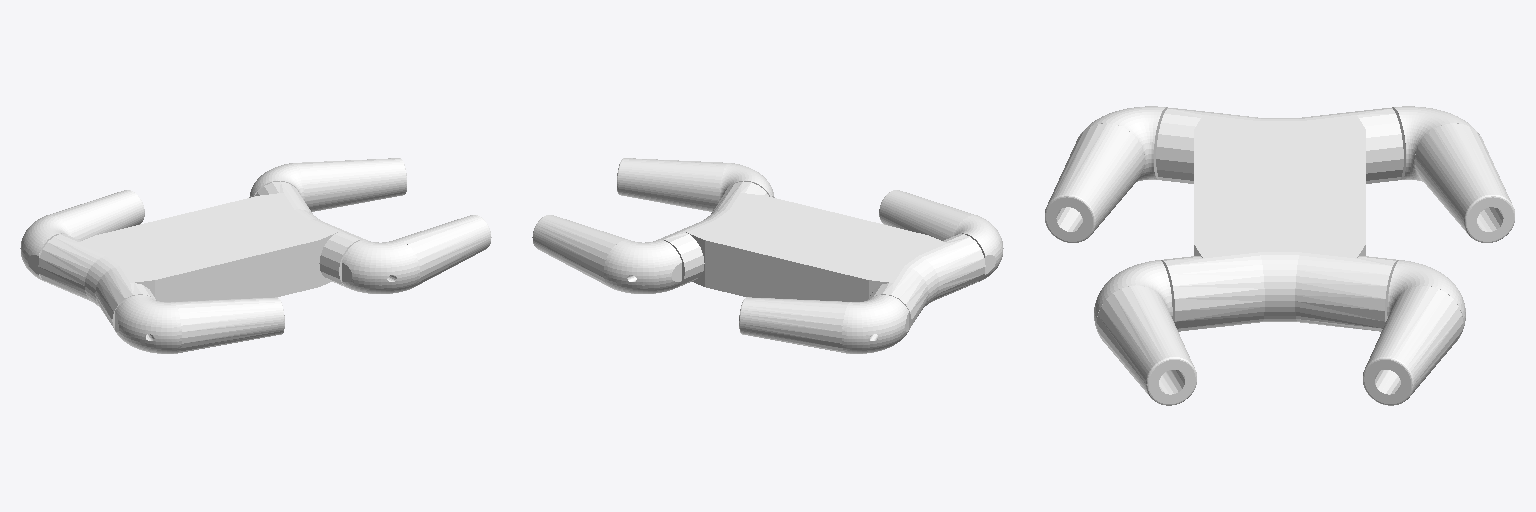
The robot description file, URDF, robot "15_degree":
<?xml version="1.0" encoding="utf-8"?>
<!-- This URDF was automatically created by SolidWorks to URDF Exporter! Originally created by [author] ([email redacted]) 
     Commit Version: 1.5.1-0-g916b5db  Build Version: 1.5.7152.31018
     For more information, please see http://wiki.ros.org/sw_urdf_exporter -->
<robot
  name="15_degree">
  <link
    name="base_link">
    <inertial>
      <origin
        xyz="-2.7756E-17 5.2408E-08 -6.9389E-18"
        rpy="0 0 0" />
      <mass
        value="2.803" />
      <inertia
        ixx="0.009986176"
        ixy="-6.4851E-19"
        ixz="-8.4546E-11"
        iyy="0.040777.456"
        iyz="2.6238E-20"
        izz="0.048397454" />
    </inertial>
    <visual>
      <origin
        xyz="0 0 0"
        rpy="0 0 0" />
      <geometry>
        <mesh
          filename="package://15_degree/meshes/base_link.STL" />
      </geometry>
      <material
        name="">
        <color
          rgba="1 1 1 1" />
      </material>
    </visual>
    <collision>
      <origin
        xyz="0 0 0"
        rpy="0 0 0" />
      <geometry>
        <mesh
          filename="package://15_degree/meshes/base_link.STL" />
      </geometry>
    </collision>
  </link>
  <link
    name="left_fromt_link">
    <inertial>
      <origin
        xyz="-1.0413E-07 0.068609 -0.019067"
        rpy="0 0 0" />
      <mass
        value="0.0887" />
      <inertia
        ixx="0.000284019"
        ixy="4.7791E-10"
        ixz="7.4355E-10"
        iyy="0.000054239"
        iyz="-0.000038266"
        izz="0.000277107" />
    </inertial>
    <visual>
      <origin
        xyz="0 0 0"
        rpy="0 0 0" />
      <geometry>
        <mesh
          filename="package://15_degree/meshes/left_fromt_link.STL" />
      </geometry>
      <material
        name="">
        <color
          rgba="1 1 1 1" />
      </material>
    </visual>
    <collision>
      <origin
        xyz="0 0 0"
        rpy="0 0 0" />
      <geometry>
        <mesh
          filename="package://15_degree/meshes/left_fromt_link.STL" />
      </geometry>
    </collision>
  </link>
  <joint
    name="left_front_leg"
    type="continuous">
    <origin
      xyz="0.15666 0.09949 0"
      rpy="1.5708 1.5708 0" />
    <parent
      link="base_link" />
    <child
      link="left_fromt_link" />
    <axis
      xyz="0 0.25882 -0.96593" />
    <limit
      effort="5"
      velocity="487" />
  </joint>
  <link
    name="right_front_link">
    <inertial>
      <origin
        xyz="1.0413E-07 0.068609 0.019067"
        rpy="0 0 0" />
      <mass
        value="0.0877" />
      <inertia
        ixx="0.000284019"
        ixy="-4.7791E-10"
        ixz="7.4355E-10"
        iyy="0.000054239"
        iyz="0.000038266"
        izz="0.000277107" />
    </inertial>
    <visual>
      <origin
        xyz="0 0 0"
        rpy="0 0 0" />
      <geometry>
        <mesh
          filename="package://15_degree/meshes/right_front_link.STL" />
      </geometry>
      <material
        name="">
        <color
          rgba="1 1 1 1" />
      </material>
    </visual>
    <collision>
      <origin
        xyz="0 0 0"
        rpy="0 0 0" />
      <geometry>
        <mesh
          filename="package://15_degree/meshes/right_front_link.STL" />
      </geometry>
    </collision>
  </link>
  <joint
    name="right_front_leg"
    type="continuous">
    <origin
      xyz="0.15666 -0.09949 0"
      rpy="1.5708 1.5708 0" />
    <parent
      link="base_link" />
    <child
      link="right_front_link" />
    <axis
      xyz="0 0.25882 0.96593" />
    <limit
      effort="5"
      velocity="487" />
  </joint>
  <link
    name="right_back_link">
    <inertial>
      <origin
        xyz="8.4201E-08 0.061337 0.036175"
        rpy="0 0 0" />
      <mass
        value="0.0877" />
      <inertia
        ixx="0.000284019"
        ixy="-5.3404E-10"
        ixz="6.2732E-10"
        iyy="0.000050035"
        iyz="-0.000022577"
        izz="0.000281311" />
    </inertial>
    <visual>
      <origin
        xyz="0 0 0"
        rpy="0 0 0" />
      <geometry>
        <mesh
          filename="package://15_degree/meshes/right_back_link.STL" />
      </geometry>
      <material
        name="">
        <color
          rgba="1 1 1 1" />
      </material>
    </visual>
    <collision>
      <origin
        xyz="0 0 0"
        rpy="0 0 0" />
      <geometry>
        <mesh
          filename="package://15_degree/meshes/right_back_link.STL" />
      </geometry>
    </collision>
  </link>
  <joint
    name="right_back_leg"
    type="continuous">
    <origin
      xyz="-0.15666 -0.09949 0"
      rpy="1.8326 1.5708 0" />
    <parent
      link="base_link" />
    <child
      link="right_back_link" />
    <axis
      xyz="0 0 1" />
    <limit
      effort="5"
      velocity="487" />
  </joint>
  <link
    name="left_back_link">
    <inertial>
      <origin
        xyz="-8.4201E-08 0.049884 -0.050818"
        rpy="0 0 0" />
      <mass
        value="0.0877" />
      <inertia
        ixx="0.000284019"
        ixy="6.782E-10"
        ixz="4.6772E-10"
        iyy="0.000076816"
        iyz="0.000077371"
        izz="0.000254529" />
    </inertial>
    <visual>
      <origin
        xyz="0 0 0"
        rpy="0 0 0" />
      <geometry>
        <mesh
          filename="package://15_degree/meshes/left_back_link.STL" />
      </geometry>
      <material
        name="">
        <color
          rgba="1 1 1 1" />
      </material>
    </visual>
    <collision>
      <origin
        xyz="0 0 0"
        rpy="0 0 0" />
      <geometry>
        <mesh
          filename="package://15_degree/meshes/left_back_link.STL" />
      </geometry>
    </collision>
  </link>
  <joint
    name="left_back_leg"
    type="continuous">
    <origin
      xyz="-0.15666 0.09949 0"
      rpy="1.5708 1.5708 0" />
    <parent
      link="base_link" />
    <child
      link="left_back_link" />
    <axis
      xyz="0 -0.25882 -0.96593" />
    <limit
      effort="5"
      velocity="487" />
  </joint>
</robot>

--- Facts derived from the render (not from the file) ---
Views: 3 orthographic renders of the robot side by side, from view 1: azimuth 30°, elevation 25°; view 2: azimuth 150°, elevation 25°; view 3: azimuth 270°, elevation 25°.
Robot: 15_degree — 5 links, 4 joints (4 continuous); root link base_link; default pose: every joint at zero.
Links seen in each view (by area): view 1: base_link, right_back_link, right_front_link, left_fromt_link, left_back_link; view 2: base_link, left_back_link, left_fromt_link, right_front_link, right_back_link; view 3: base_link, right_back_link, left_back_link, right_front_link, left_fromt_link.
Boxes of the visible links, box(x1,y1,x2,y2) form: base_link: box(38, 181, 365, 329); right_back_link: box(115, 295, 284, 353); right_front_link: box(342, 215, 491, 293); left_fromt_link: box(249, 158, 406, 211); left_back_link: box(20, 190, 144, 281); base_link: box(658, 181, 985, 329); left_back_link: box(739, 295, 908, 353); left_fromt_link: box(532, 215, 681, 293); right_front_link: box(617, 158, 774, 211); right_back_link: box(879, 190, 1003, 281); base_link: box(1156, 108, 1403, 331); right_back_link: box(1045, 106, 1167, 242); left_back_link: box(1392, 106, 1514, 242); right_front_link: box(1094, 260, 1196, 405); left_fromt_link: box(1363, 260, 1465, 405).
Size in the robot's own frame: 0.5293 by 0.4096 by 0.064 metres.
5 mesh visuals loaded from 5 distinct referenced files (5 binary STL).